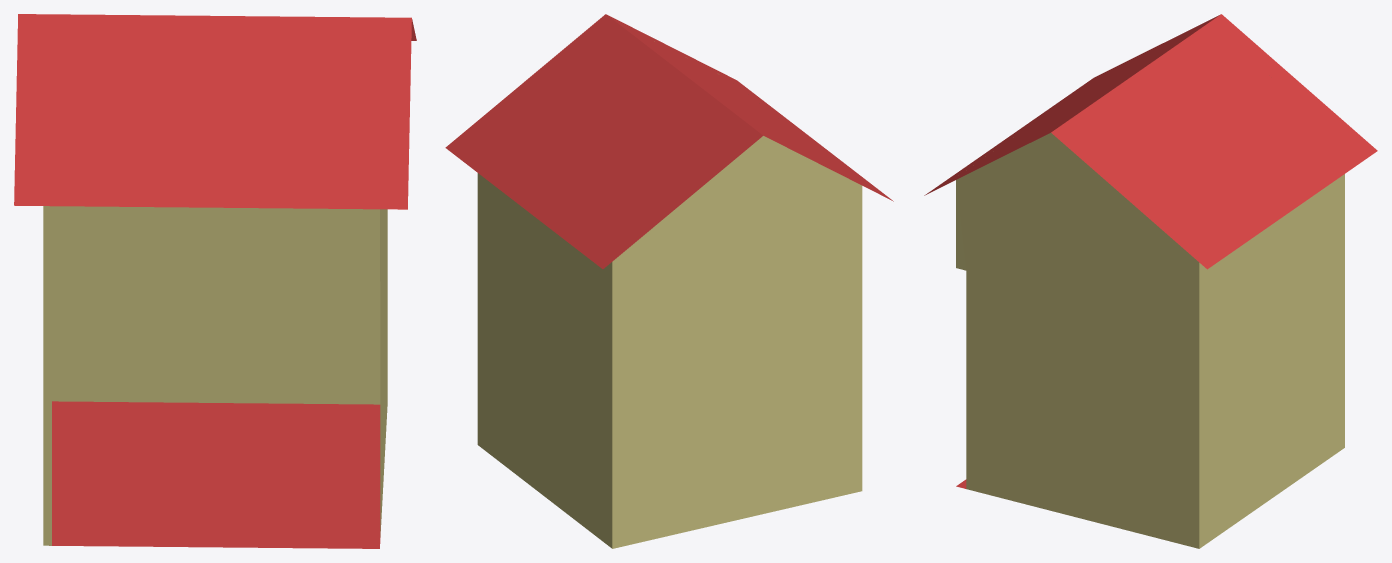
3 views of the same model, side by side, from view 1: azimuth 30°, elevation 25°; view 2: azimuth 150°, elevation 25°; view 3: azimuth 270°, elevation 25° (orthographic). The views are drawn at different scales.
Parts seen in each view (by area): view 1: group_5, group_3, group_6, group_4; view 2: group_5, group_3, group_4; view 3: group_5, group_3, group_4.
Part boxes in pixels (x1=…): group_5: x1=43, y1=206, x2=387, y2=545; group_3: x1=14, y1=14, x2=411, y2=209; group_6: x1=52, y1=401, x2=380, y2=548; group_4: x1=189, y1=17, x2=416, y2=209; group_5: x1=477, y1=41, x2=862, y2=548; group_3: x1=445, y1=14, x2=893, y2=268; group_4: x1=505, y1=15, x2=801, y2=267; group_5: x1=956, y1=133, x2=1344, y2=548; group_3: x1=927, y1=14, x2=1377, y2=269; group_4: x1=924, y1=14, x2=1291, y2=266.
Size of the model in its own units: 14.23 by 14.27 by 13.5.
